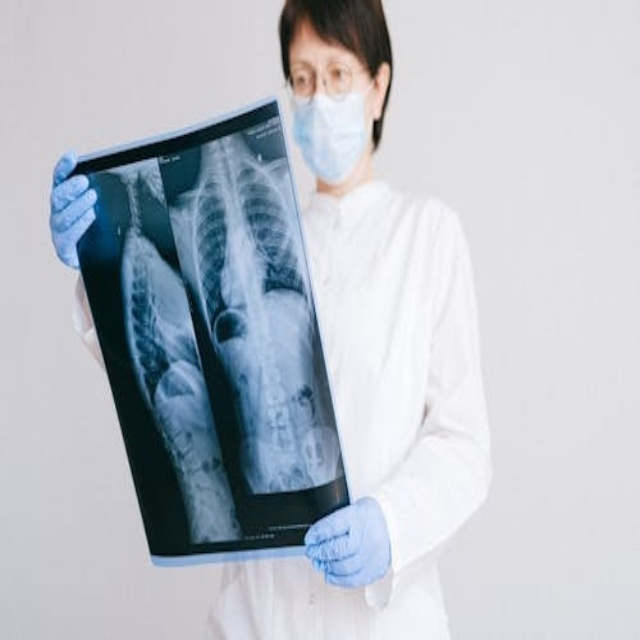Gafas: (286, 64, 372, 101)
Guantes: (303, 496, 392, 591), (49, 150, 97, 272)
Mascara: (291, 81, 374, 184)
